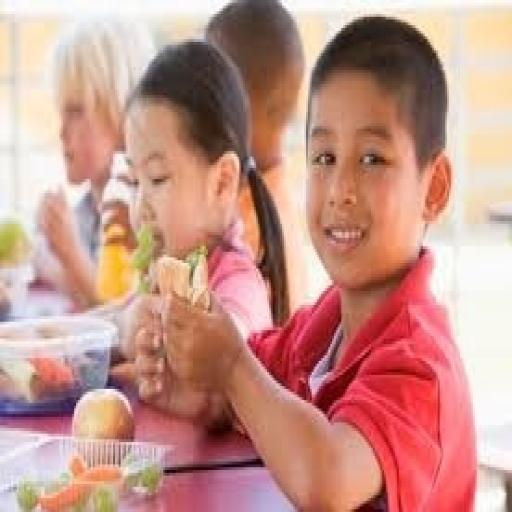eating: (136, 11, 478, 509)
